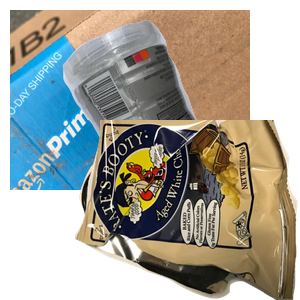cardboard: (10, 10, 250, 190)
glass: (77, 147, 295, 300)
plastic: (60, 18, 300, 198)
trash: (75, 120, 300, 300)
